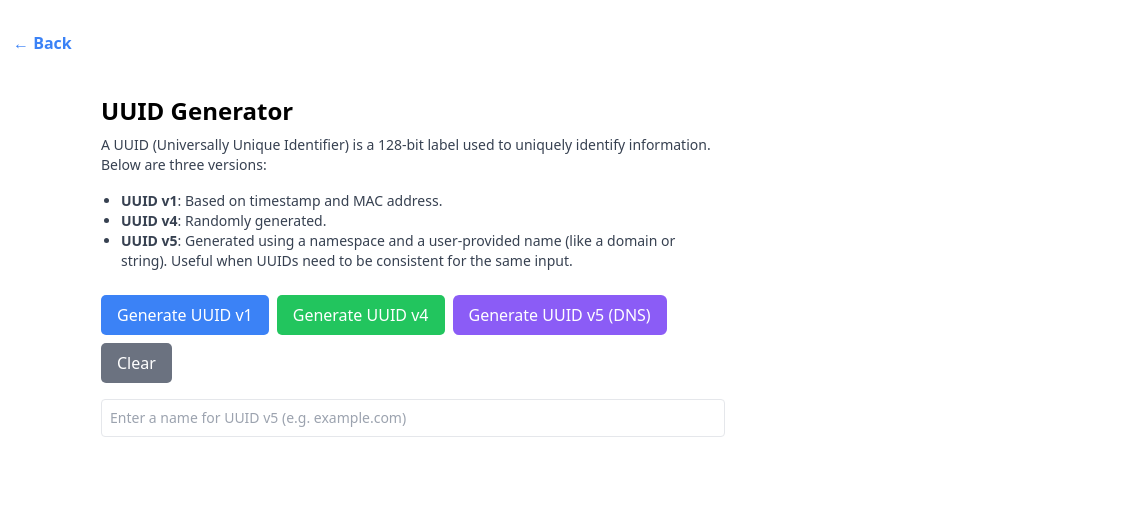
UuidGeneratorView › clears the UUID and input
Type "test.com" into the field with placeholder "Enter a name for UUID v5 (e.g. example.com)".
click(413, 418); type("test.com")  # box 101,399 -> 725,437
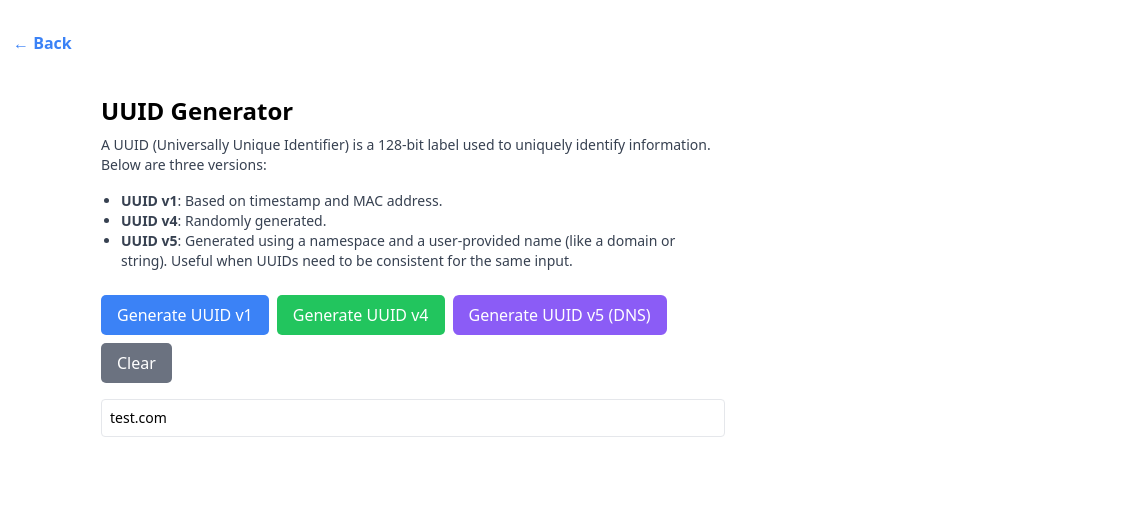
Click the button with class "btn-purple".
click(560, 315)  # box 452,295 -> 667,335
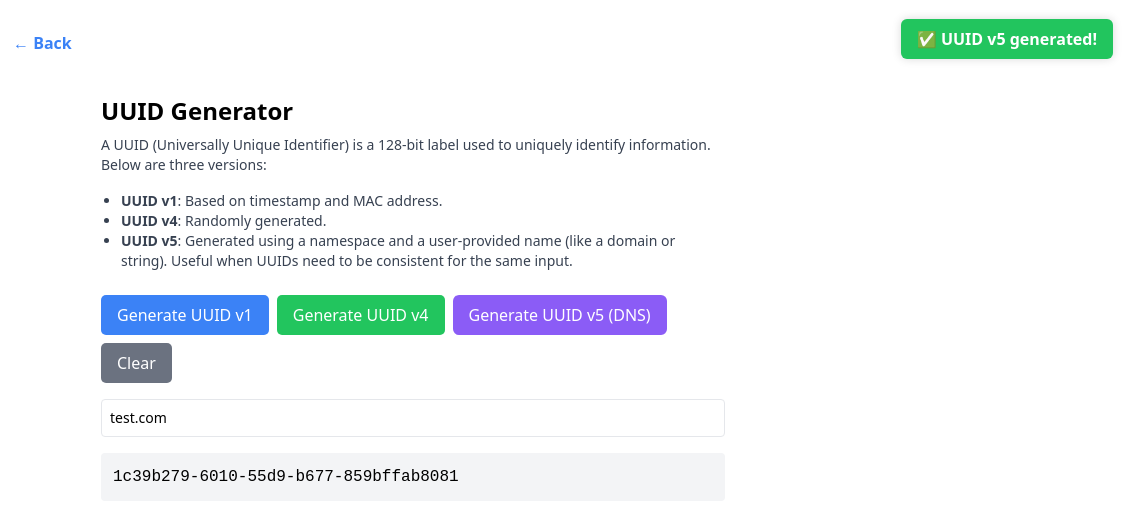
Click the button with class "btn-gray".
click(136, 363)  # box 101,343 -> 172,383
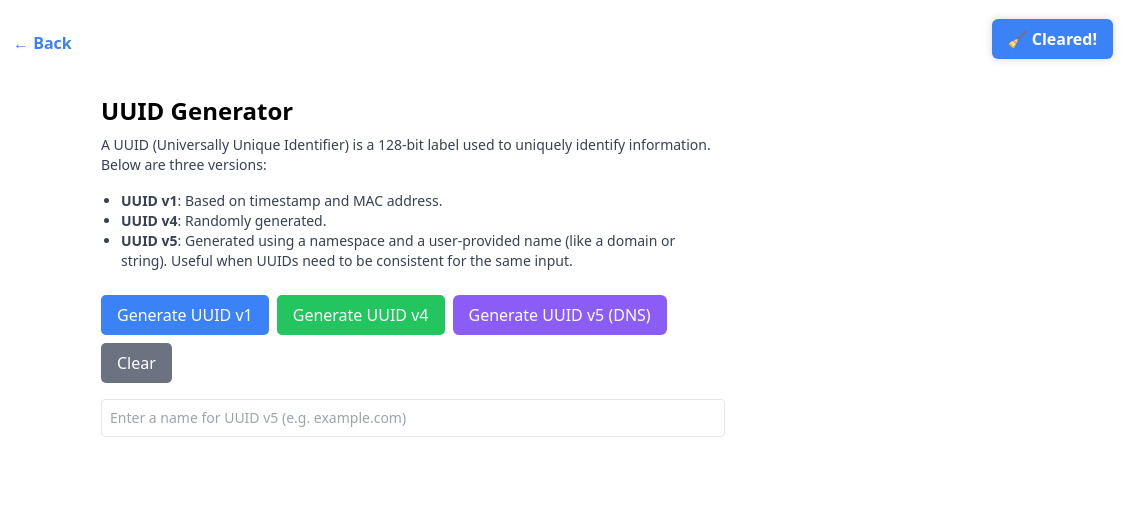
Check: the field with placeholder "Enter a name for UUID v5 (e.g. example.com)" is empty, box 101,399 -> 725,437
